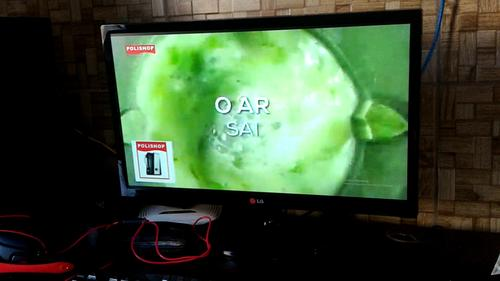Polishop #1: (131, 141, 176, 182)
